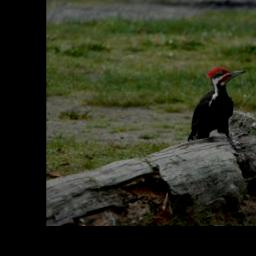Woodpecker: (187, 62, 247, 145)
